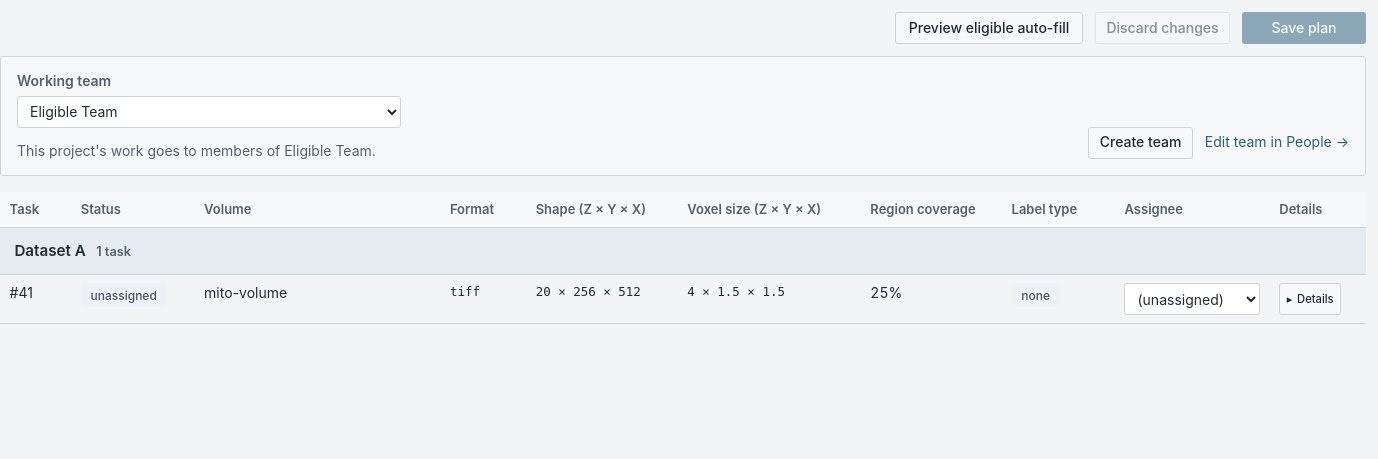
Scenario: AssignmentPlanEditor team-first assignment › chooses one project working team and gives each row only an assignee control
This screenshot has width=1378, height=459.
Expected: the dropdown labelled "Working team" shows "Eligible Team", [17,96,401,128]
Expected: the dropdown named "Assignee for mito-volume" is enabled, [1124,283,1260,315]
Click the button "▸ Details".
click(1310, 299)  # box [1279,283,1341,315]
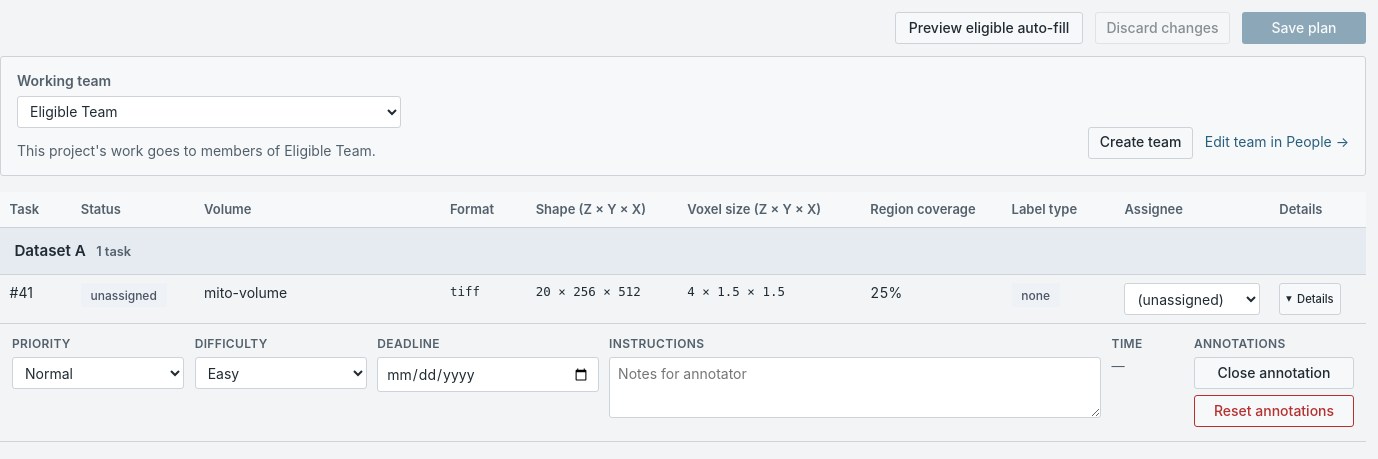
Expected: the button "▸ Details" is expanded
Expected: the button "Reset annotations" is shown, [1194,395,1354,427]
Click the button "▸ Details".
click(1310, 299)  # box [1279,283,1341,315]
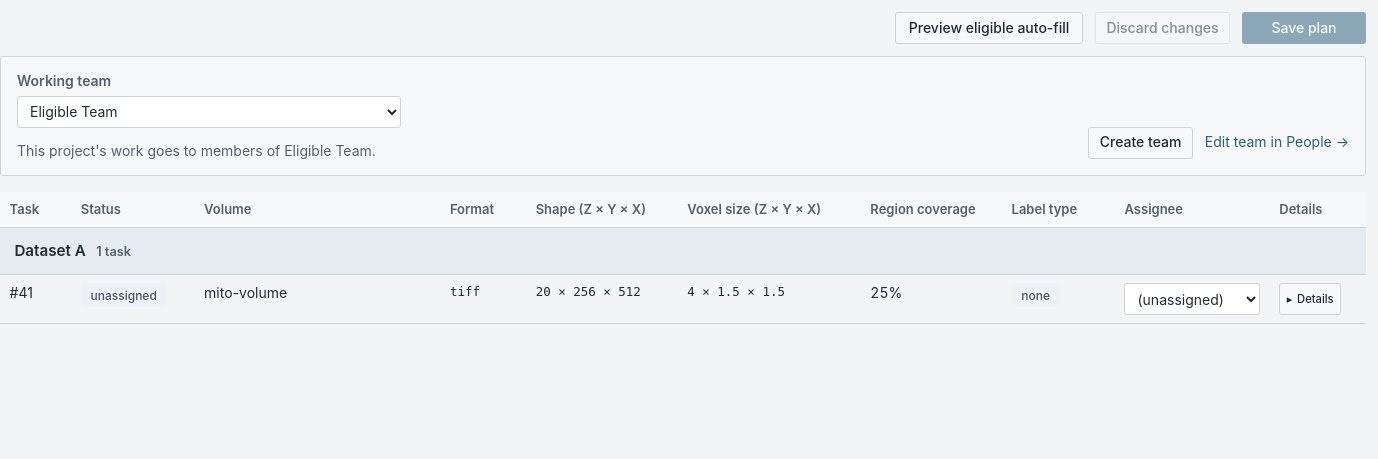
Expected: the field with placeholder "Notes for annotator" is not shown
Expected: the button "▸ Details" is collapsed, [1279,283,1341,315]
